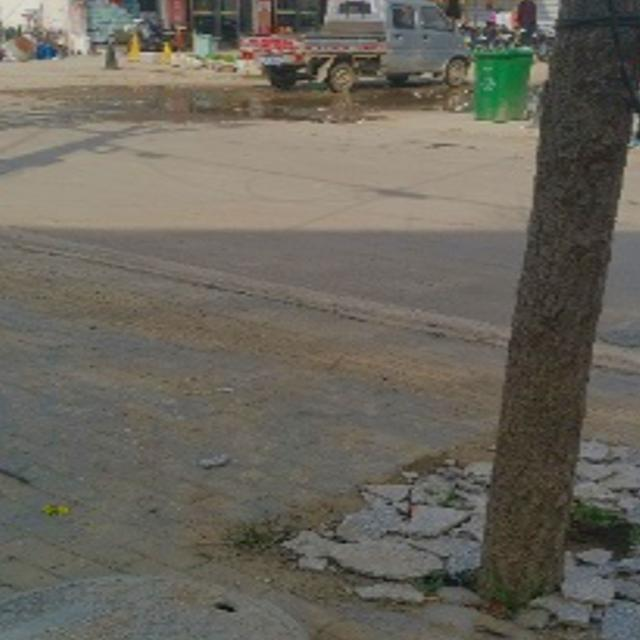uncovered: (0, 574, 314, 640)
